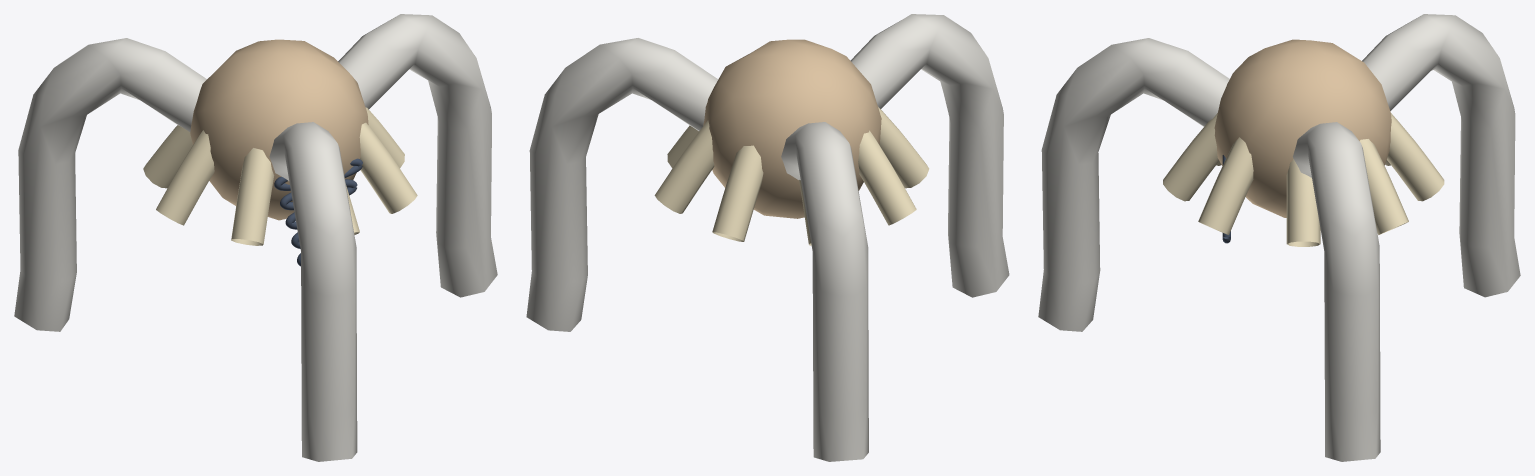
File: bio_tripod_bell_03_far.glb
The picture shows the model from 3 angles, left to right: view 1: azimuth 30°, elevation 25°; view 2: azimuth 150°, elevation 25°; view 3: azimuth 270°, elevation 25°; orthographic projection.
Parts seen in each view (by area): view 1: Arched tripod.001, Arched tripod, Arched tripod.002, Hanging bell core, Flared rib.005, Flared rib.004, Flared rib.007, Flared rib.003, Underside pressure folds, Flared rib; view 2: Arched tripod, Arched tripod.002, Arched tripod.001, Hanging bell core, Flared rib.002, Flared rib.004, Flared rib.001, Flared rib.005, Flared rib; view 3: Arched tripod.002, Arched tripod.001, Arched tripod, Hanging bell core, Flared rib.007, Flared rib.002, Flared rib.006, Flared rib, Flared rib.001.
Part boxes in pixels (x1,y1,x2,y2): Arched tripod.001: (14,38,206,331); Arched tripod: (338,14,497,297); Arched tripod.002: (269,122,357,461); Hanging bell core: (190,39,368,220); Flared rib.005: (231,148,274,245); Flared rib.004: (156,130,214,225); Flared rib.007: (359,122,417,213); Flared rib.003: (143,125,192,188); Underside pressure folds: (274,158,362,266); Flared rib: (365,107,404,167); Arched tripod: (526,38,718,331); Arched tripod.002: (850,14,1009,297); Arched tripod.001: (781,122,868,461); Hanging bell core: (703,39,881,218); Flared rib.002: (712,145,763,241); Flared rib.004: (858,130,916,225); Flared rib.001: (654,120,714,213); Flared rib.005: (878,106,929,188); Flared rib: (667,125,698,168); Arched tripod.002: (1038,38,1229,331); Arched tripod.001: (1362,14,1520,297); Arched tripod: (1293,122,1380,461); Hanging bell core: (1214,39,1391,217); Flared rib.007: (1198,137,1253,234); Flared rib.002: (1387,113,1444,201); Flared rib.006: (1163,113,1219,201); Flared rib: (1286,159,1320,246); Flared rib.001: (1359,139,1408,234).
Size of the model in its own units: 2.49 by 1.82 by 2.57.
